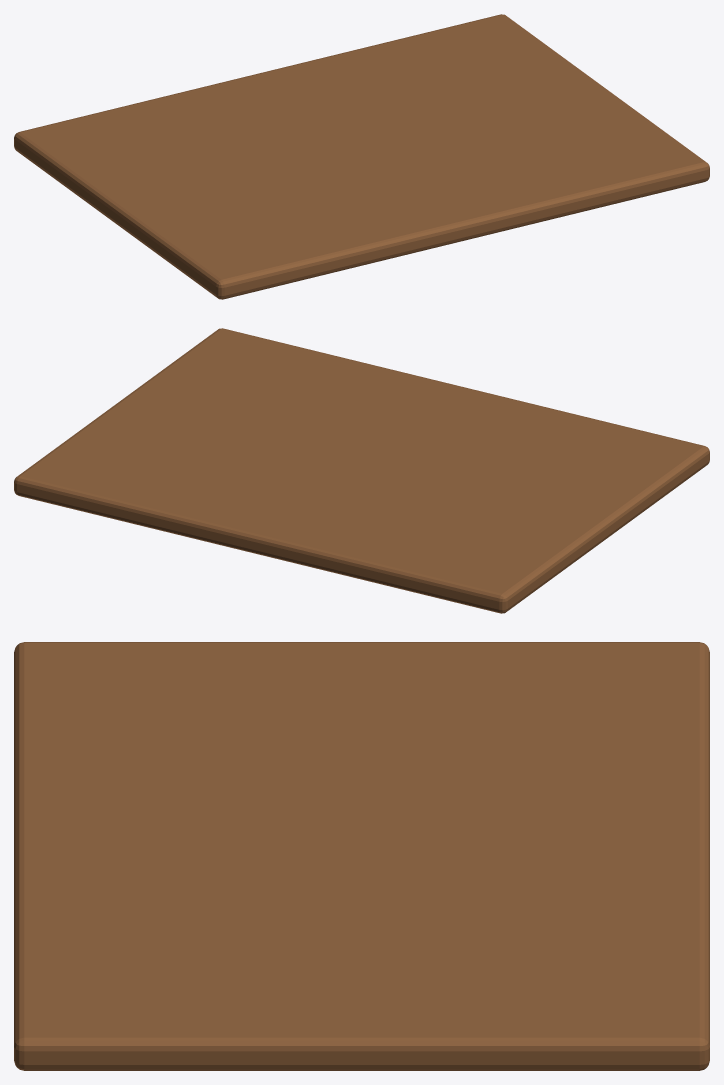
File: board.glb
3 views of the same model, one above another, from view 1: azimuth 30°, elevation 25°; view 2: azimuth 150°, elevation 25°; view 3: azimuth 270°, elevation 25° (orthographic). The views are drawn at different scales.
Visible parts, largest first — view 1: Cube; view 2: Cube; view 3: Cube.
Part boxes in pixels (x1,y1,x2,y2): Cube: (14, 14, 709, 299); Cube: (14, 328, 709, 613); Cube: (14, 642, 709, 1070).
Size of the model in its own units: 0.9146 by 0.0344 by 0.6669.
